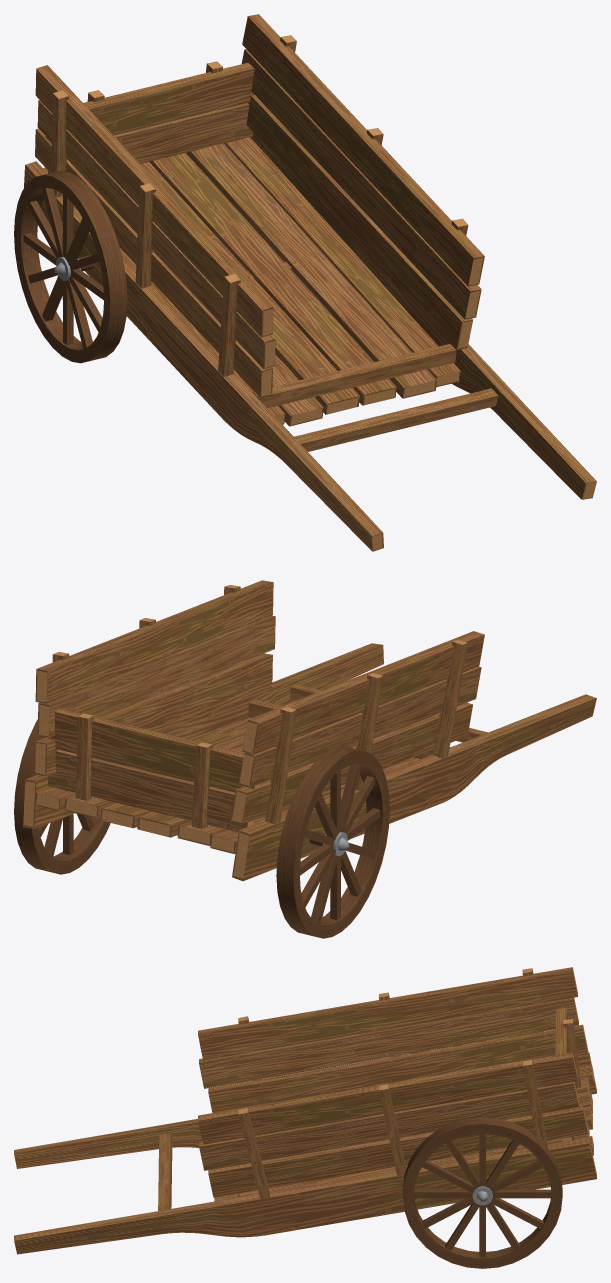
The model's file is wagon.glb.
The picture shows the model from 3 angles, top to bottom: view 1: azimuth 30°, elevation 25°; view 2: azimuth 150°, elevation 25°; view 3: azimuth 270°, elevation 25°; orthographic projection. The views are drawn at different scales.
Visible parts, largest first — view 1: Prop_Wagon; view 2: Prop_Wagon; view 3: Prop_Wagon.
Boxes of the visible parts, x1,y1,x2,y2 form: Prop_Wagon: (14, 14, 596, 551); Prop_Wagon: (14, 580, 596, 938); Prop_Wagon: (14, 967, 596, 1268).
Size of the model in its own units: 1.95 by 1.53 by 4.02.
1 material, 1 textured.
